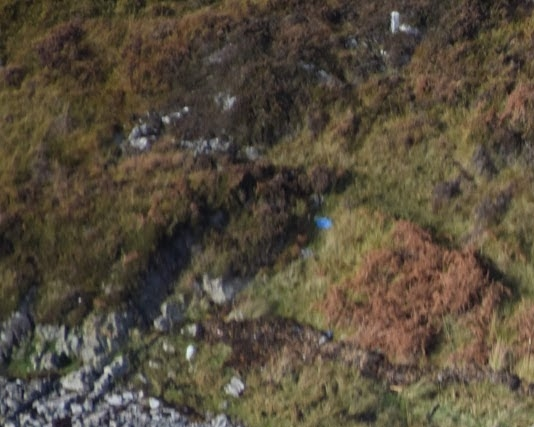white_in_green: (301, 200, 346, 239)
